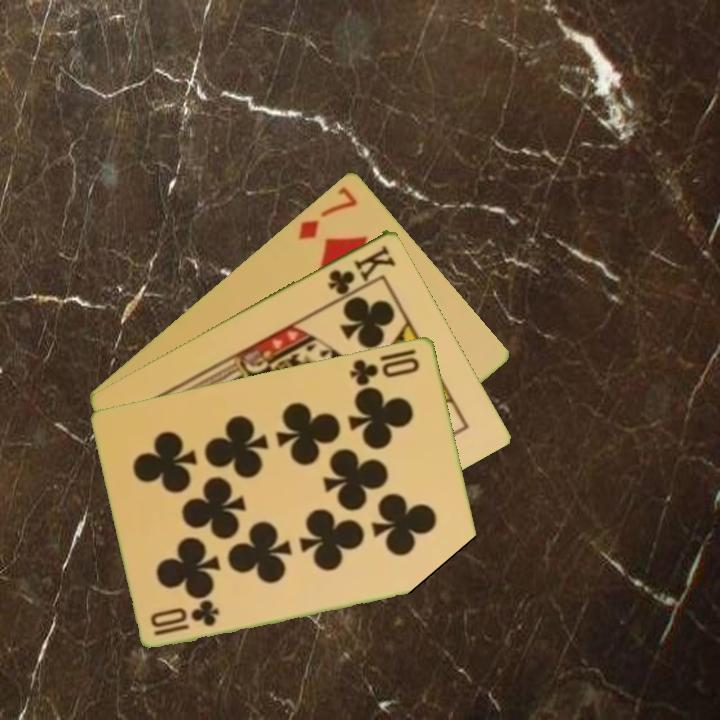10c: (150, 598, 223, 638), (346, 352, 423, 389)
7d: (294, 182, 361, 243)
Kc: (324, 240, 398, 297)
